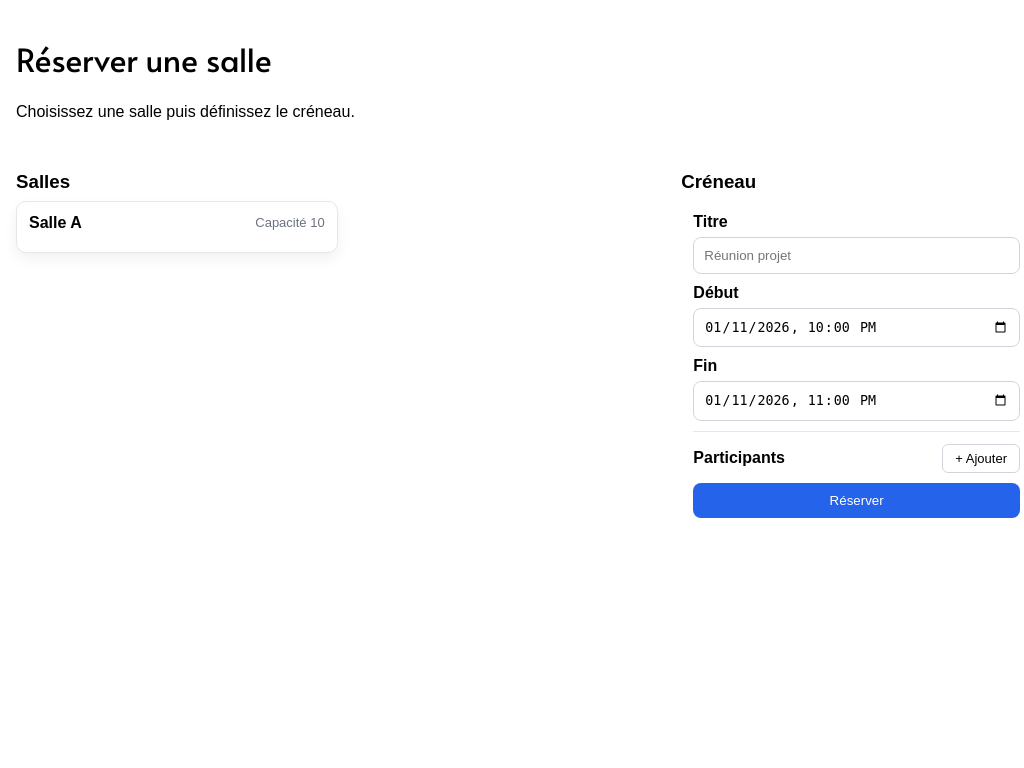
Test: BookingRoom › shows error when submitting without a title
This screenshot has width=1024, height=768.
Click the element with test id "room-card-1": (177, 227) [16,201,338,253]
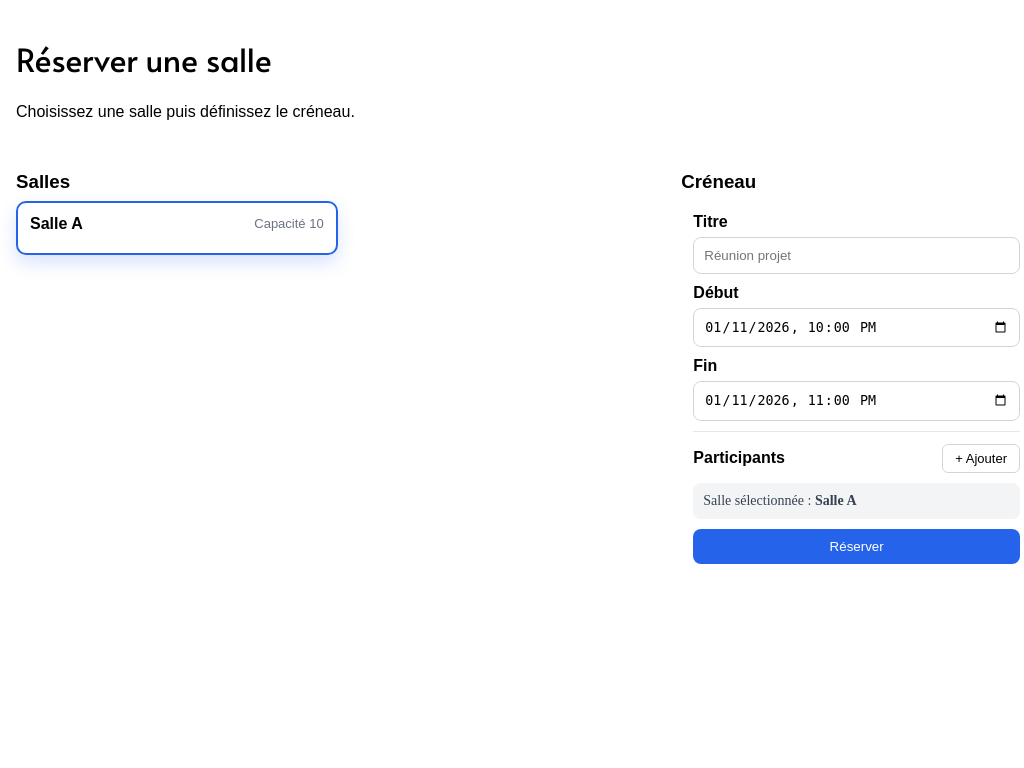
Click the button with test id "submit-button": (857, 546) [693,528,1020,564]
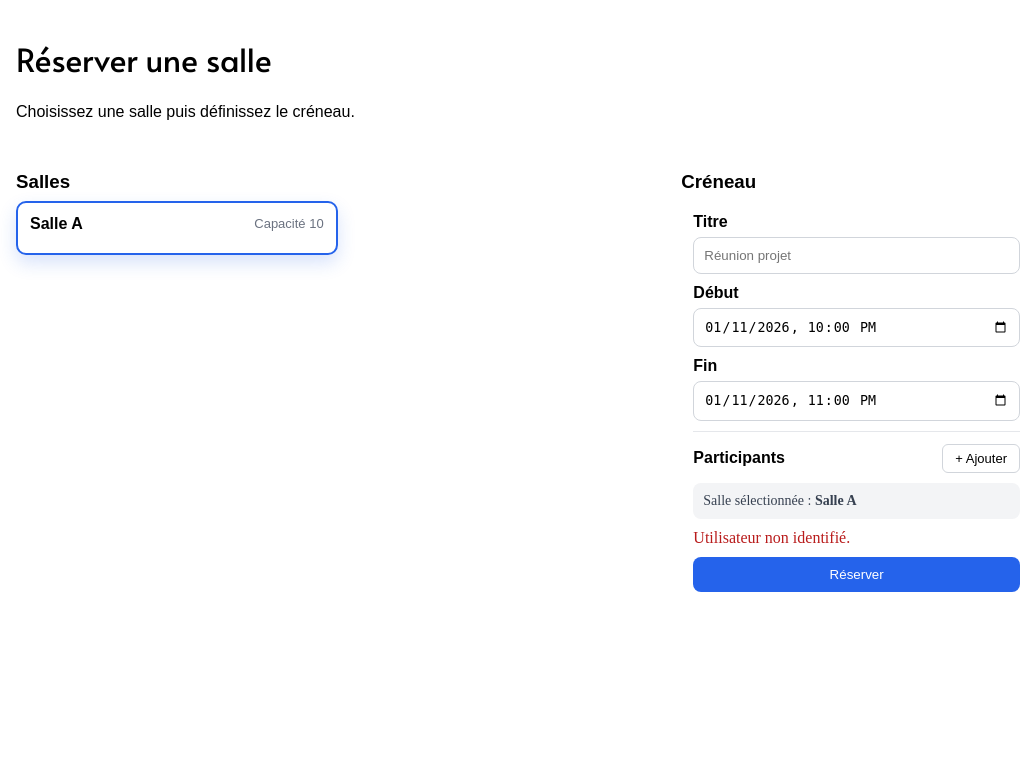
Check: the text "Utilisateur non identifié." is shown, box [693,528,850,546]
